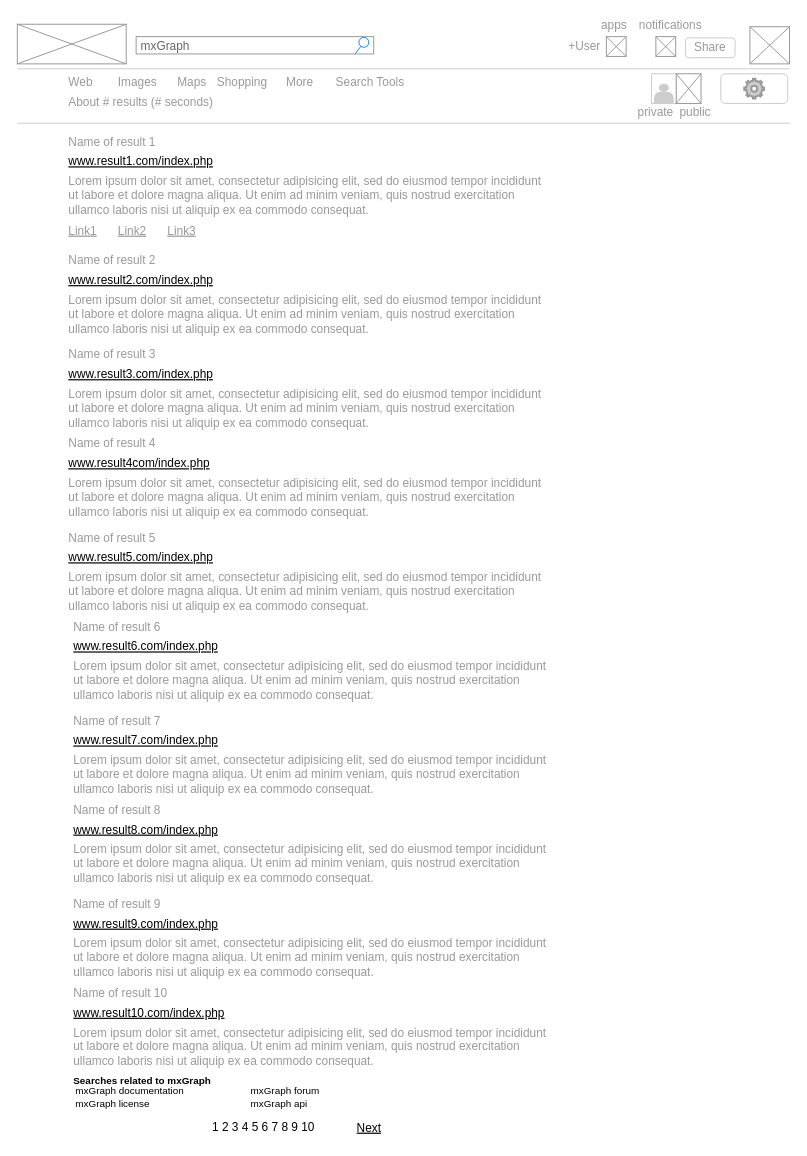
This 807x1156 diagram has some shape labels left out. The shapes that lost their labels are listed below. From the top down, each one's centre as x and y in pixels, then its label:
At (x=71, y=43): "Logo".
At (x=769, y=45): "user avatar".
